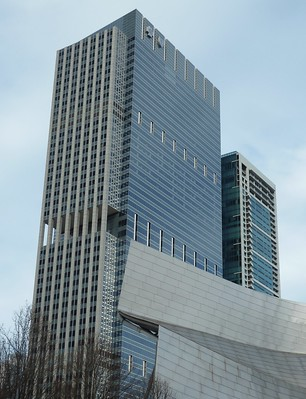medium: (23, 5, 229, 399)
